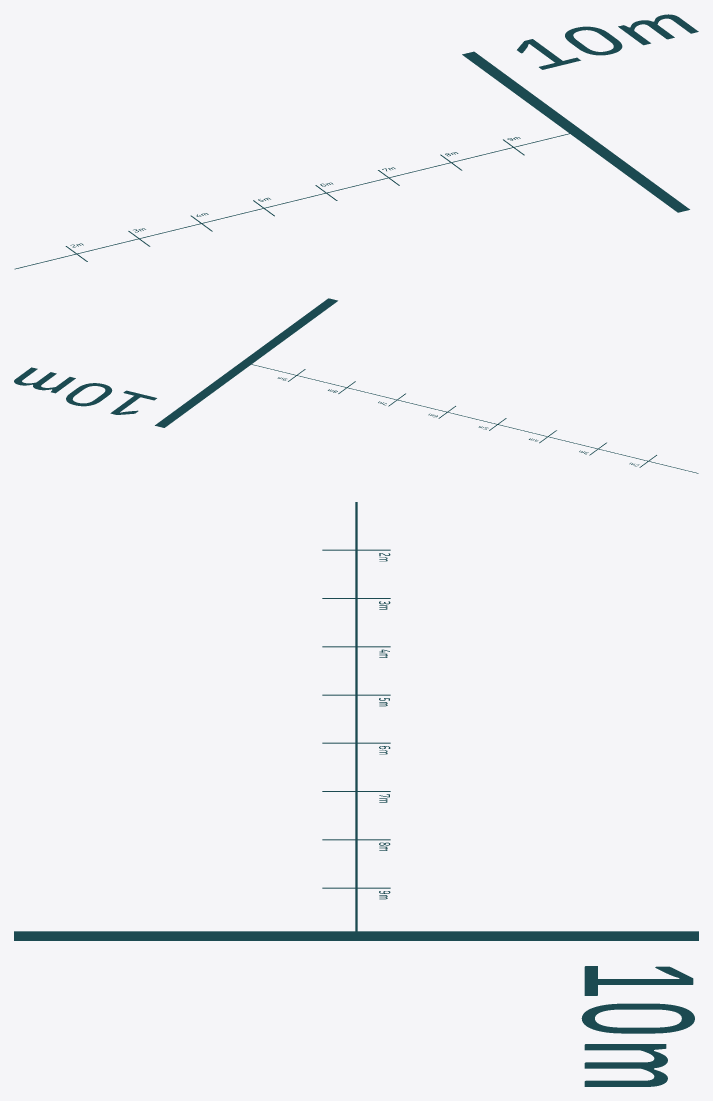
3 renders of one model, top to bottom at view 1: azimuth 30°, elevation 25°; view 2: azimuth 150°, elevation 25°; view 3: azimuth 270°, elevation 25°, orthographic. The views are drawn at different scales.
Parts seen in each view (by area): view 1: Plane.010, Text.009, Plane; view 2: Plane.010, Text.009, Plane; view 3: Plane.010, Text.009, Plane.
Boxes of the visible parts, <box> form: Plane.010: <box>462,51,689,212</box>; Text.009: <box>517,14,698,69</box>; Plane: <box>14,132,575,269</box>; Plane.010: <box>155,298,337,427</box>; Text.009: <box>14,367,156,414</box>; Plane: <box>246,363,698,473</box>; Plane.010: <box>14,931,698,940</box>; Text.009: <box>581,966,694,1086</box>; Plane: <box>355,502,357,936</box>.
Bounding box in the file's own units: 12.12 × 0 × 6.
